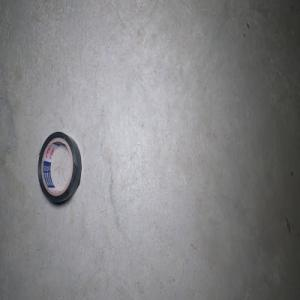Tape: (37, 131, 81, 205)
